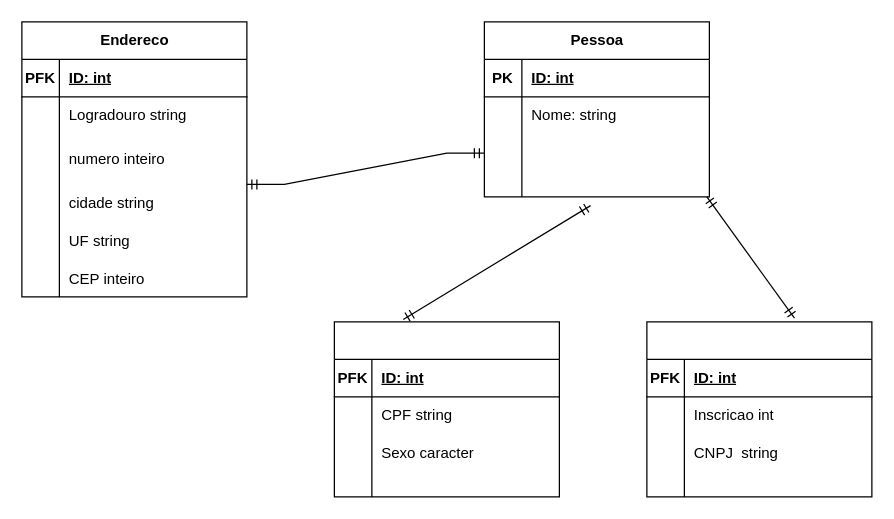
The diagram is 894 pixels wide and 519 high, and some of its shapes have lost their labels. The box of each missing label's shape, as (x1, y1, x2, y2) in pixels:
Fisica: (333, 321, 559, 497)
Juridica: (646, 321, 872, 497)
